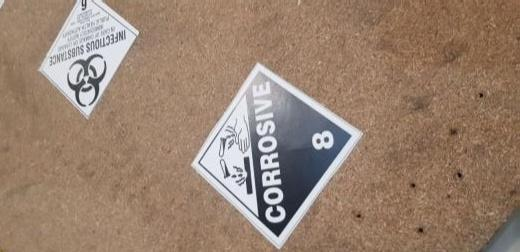corrosive: (199, 71, 355, 242)
infectious-substance: (37, 1, 139, 120)
